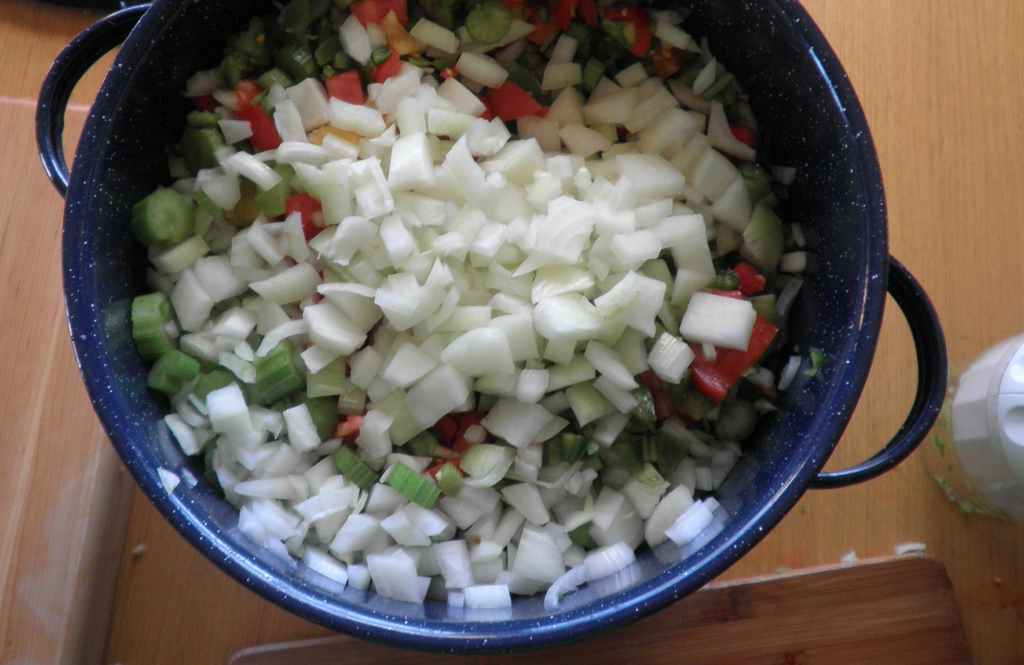salad: (114, 3, 851, 618)
